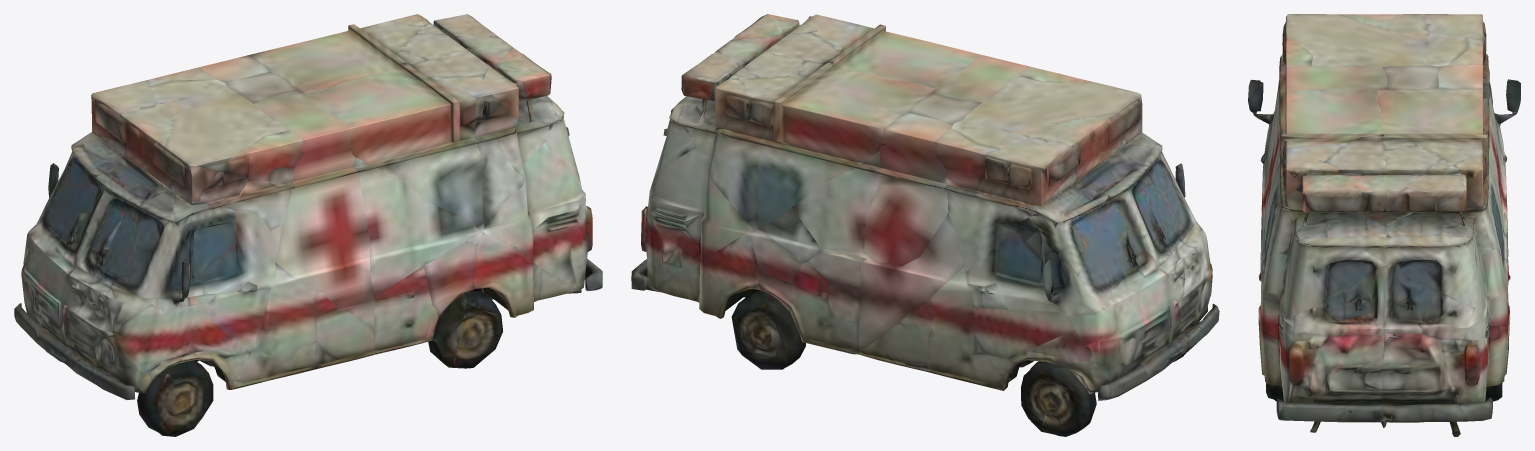
The model's file is car_ambulance_light_q2.glb.
3 renders of one model, left to right at view 1: azimuth 30°, elevation 25°; view 2: azimuth 150°, elevation 25°; view 3: azimuth 270°, elevation 25°, orthographic. The views are drawn at different scales.
Size of the model in its own units: 5.21 by 2.6 by 2.47.
Materials: 1 (1 with a texture image).
